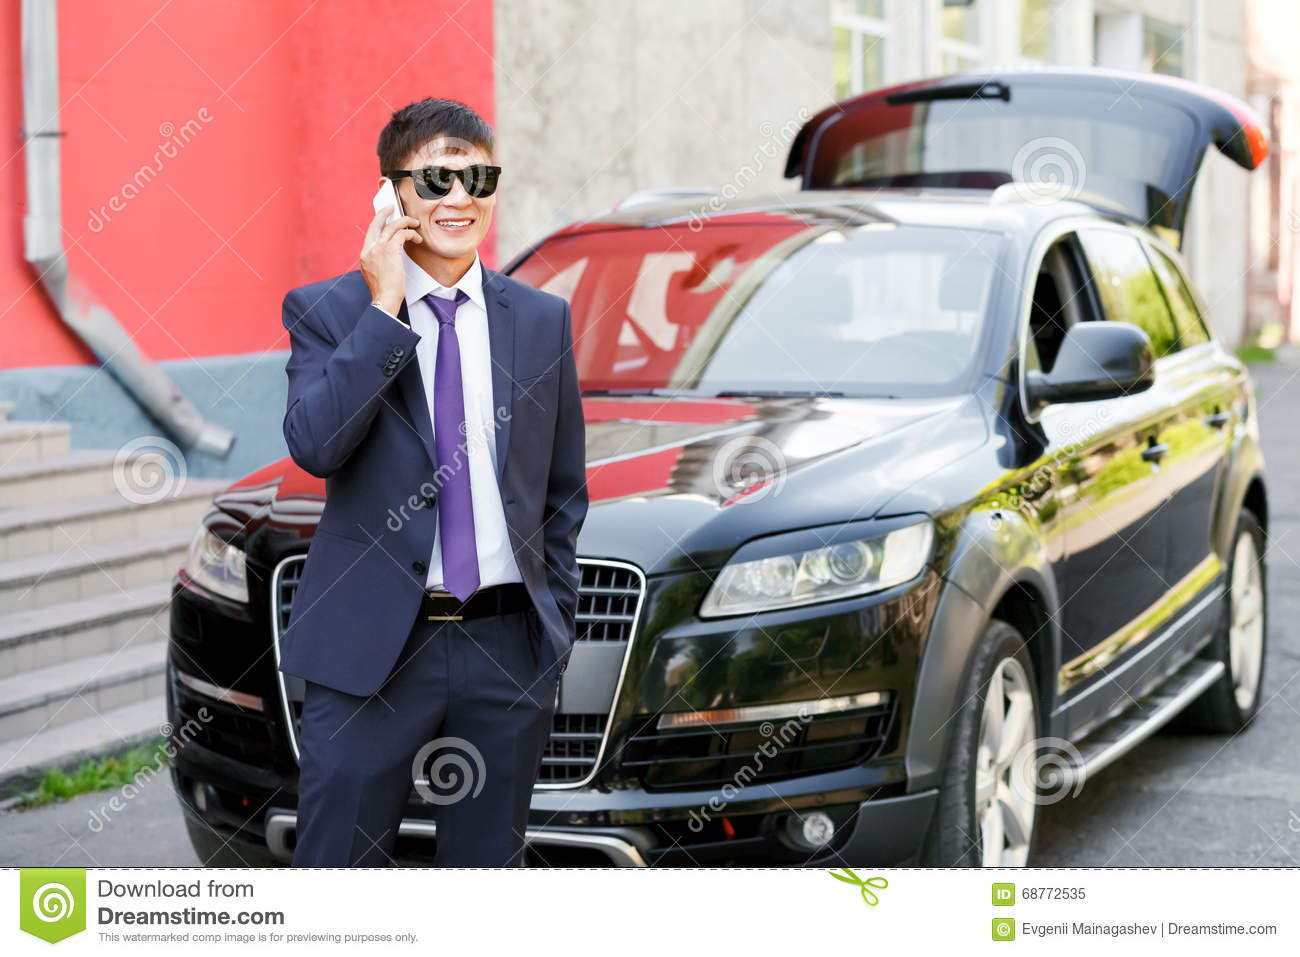phone: (372, 181, 411, 243)
talk: (359, 158, 488, 305)
